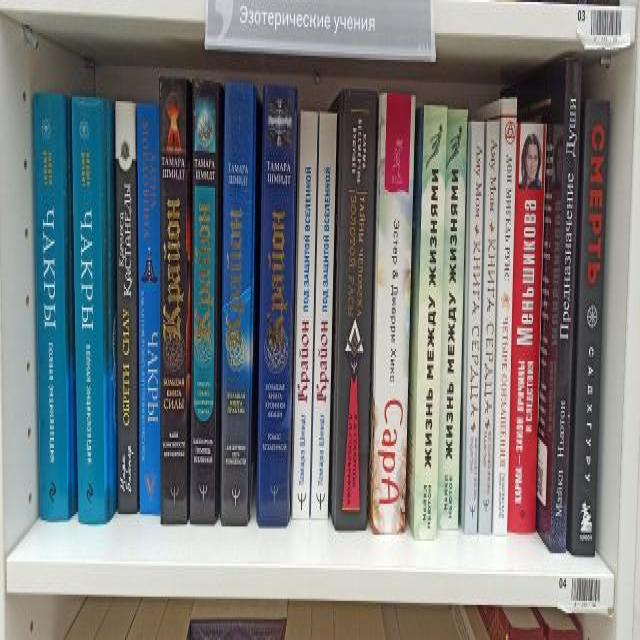book: (373, 92, 415, 534), (335, 90, 376, 531), (572, 100, 609, 556), (259, 83, 297, 526), (508, 122, 547, 532), (551, 57, 582, 553), (34, 93, 69, 518), (414, 105, 447, 539), (73, 95, 106, 523), (223, 81, 254, 526), (190, 80, 218, 527), (160, 75, 187, 524), (438, 110, 467, 528), (310, 113, 337, 518), (492, 99, 517, 533), (293, 112, 318, 517), (137, 102, 160, 514), (478, 120, 500, 533), (115, 101, 137, 513), (465, 123, 485, 532)
